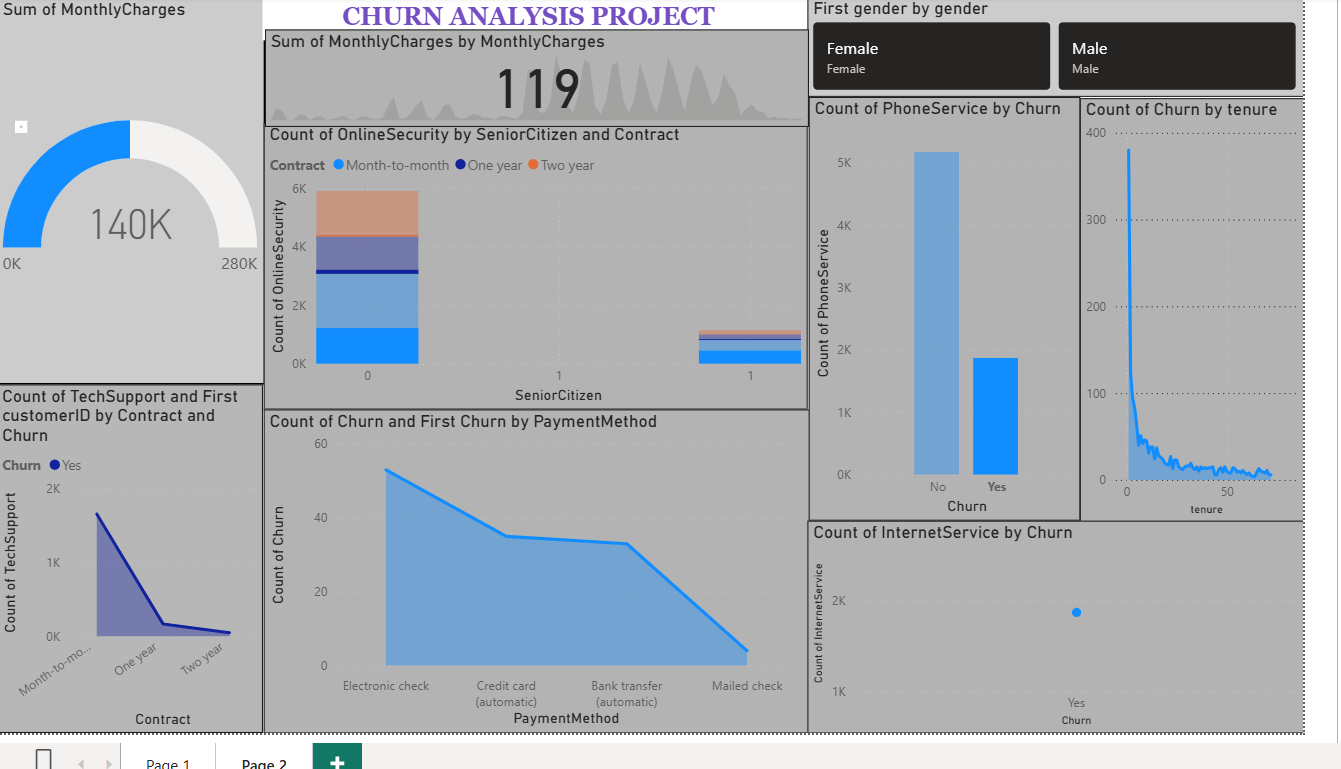

This screenshot's page, from the dashboard's own definition file:
{"tool":"powerbi","page":{"name":"Page 2","canvas":[1280,720],"ordinal":1},"visuals":[{"type":"areaChart","fields":{"Series":["WA_Fn-UseC_-Telco-Customer-Churn.Churn"],"Category":["WA_Fn-UseC_-Telco-Customer-Churn.Contract"],"Y":["CountNonNull(WA_Fn-UseC_-Telco-Customer-Churn.TechSupport)"]},"box":[1.2,379.1,260.5,341.2],"z":0},{"type":"gauge","fields":{"Y":["Sum(WA_Fn-UseC_-Telco-Customer-Churn.MonthlyCharges)"]},"box":[1.2,0,262.9,379.1],"z":1000},{"type":"textbox","box":[19.2,120.8,12.3,12.3],"z":2000},{"type":"textbox","box":[261.7,0,533.2,42.8],"z":3000},{"type":"areaChart","fields":{"Category":["WA_Fn-UseC_-Telco-Customer-Churn.PaymentMethod"],"Y":["CountNonNull(WA_Fn-UseC_-Telco-Customer-Churn.Churn)"]},"box":[262.9,403.5,534.4,316.7],"z":4000},{"type":"areaChart","fields":{"Category":["WA_Fn-UseC_-Telco-Customer-Churn.tenure"],"Y":["CountNonNull(WA_Fn-UseC_-Telco-Customer-Churn.Churn)"]},"box":[1061.4,99,218.9,414.5],"z":5000},{"type":"areaChart","fields":{"Category":["WA_Fn-UseC_-Telco-Customer-Churn.Churn"],"Y":["CountNonNull(WA_Fn-UseC_-Telco-Customer-Churn.InternetService)"]},"box":[794.8,512.4,485.5,207.9],"z":6000},{"type":"lineStackedColumnComboChart","fields":{"Category":["WA_Fn-UseC_-Telco-Customer-Churn.SeniorCitizen"],"Series":["WA_Fn-UseC_-Telco-Customer-Churn.Contract"],"Y":["CountNonNull(WA_Fn-UseC_-Telco-Customer-Churn.OnlineSecurity)"]},"box":[262.9,123.5,531.9,280],"z":7000},{"type":"advancedSlicerVisual","fields":{"Values":["WA_Fn-UseC_-Telco-Customer-Churn.gender"],"Label":["Min(WA_Fn-UseC_-Telco-Customer-Churn.gender)"]},"box":[794.8,0,485.5,97.8],"z":8000},{"type":"lineStackedColumnComboChart","fields":{"Category":["WA_Fn-UseC_-Telco-Customer-Churn.Churn"],"Y":["CountNonNull(WA_Fn-UseC_-Telco-Customer-Churn.PhoneService)"]},"box":[796.1,97.8,265.4,414.5],"z":10001},{"type":"kpi","fields":{"Indicator":["Sum(WA_Fn-UseC_-Telco-Customer-Churn.MonthlyCharges)"],"TrendLine":["WA_Fn-UseC_-Telco-Customer-Churn.MonthlyCharges"]},"box":[264.1,31.8,531.9,95.4],"z":10002}]}

Visuals, with their boxes in screenshot pixels (x1, y1, x2, y2):
areaChart - WA_Fn-UseC_-Telco-Customer-Churn.Churn x WA_Fn-UseC_-Telco-Customer-Churn.Contract: <box>0,378,256,730</box>
gauge - Sum(WA_Fn-UseC_-Telco-Customer-Churn.MonthlyCharges): <box>0,0,259,378</box>
textbox: <box>6,111,19,124</box>
textbox: <box>256,0,807,30</box>
areaChart - WA_Fn-UseC_-Telco-Customer-Churn.PaymentMethod x CountNonNull(WA_Fn-UseC_-Telco-Customer-Churn.Churn): <box>258,403,810,730</box>
areaChart - WA_Fn-UseC_-Telco-Customer-Churn.tenure x CountNonNull(WA_Fn-UseC_-Telco-Customer-Churn.Churn): <box>1083,88,1309,517</box>
areaChart - WA_Fn-UseC_-Telco-Customer-Churn.Churn x CountNonNull(WA_Fn-UseC_-Telco-Customer-Churn.InternetService): <box>807,515,1309,730</box>
lineStackedColumnComboChart - WA_Fn-UseC_-Telco-Customer-Churn.SeniorCitizen x WA_Fn-UseC_-Telco-Customer-Churn.Contract: <box>258,114,807,403</box>
advancedSlicerVisual - WA_Fn-UseC_-Telco-Customer-Churn.gender x Min(WA_Fn-UseC_-Telco-Customer-Churn.gender): <box>807,0,1309,87</box>
lineStackedColumnComboChart - WA_Fn-UseC_-Telco-Customer-Churn.Churn x CountNonNull(WA_Fn-UseC_-Telco-Customer-Churn.PhoneService): <box>809,87,1083,515</box>
kpi - Sum(WA_Fn-UseC_-Telco-Customer-Churn.MonthlyCharges) x WA_Fn-UseC_-Telco-Customer-Churn.MonthlyCharges: <box>259,19,808,117</box>
